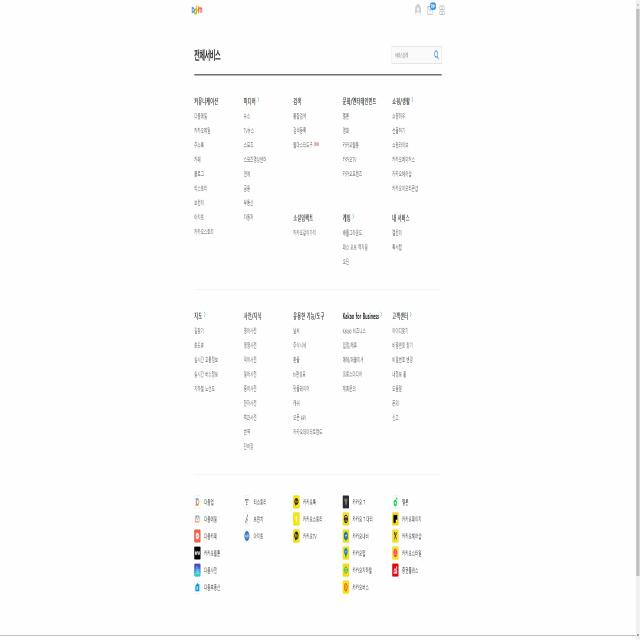menu-bar: (412, 2, 448, 22)
search: (390, 40, 444, 69)
